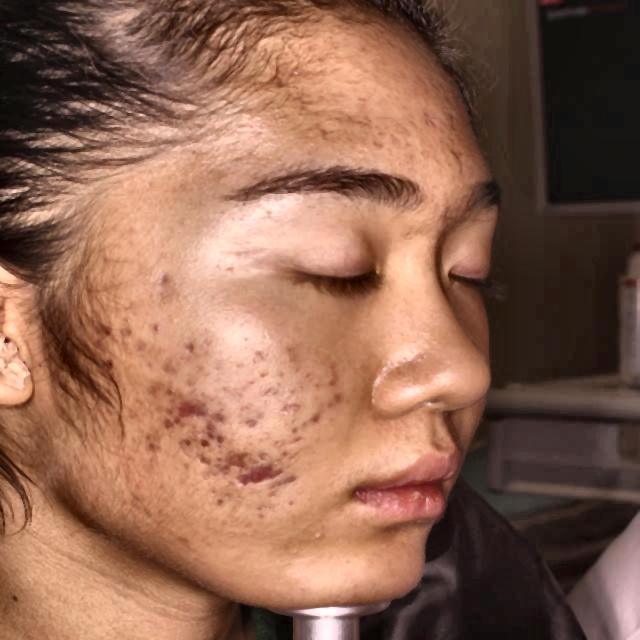pustule: (248, 462, 287, 498), (325, 375, 360, 414), (192, 439, 222, 468), (238, 405, 268, 434), (158, 411, 189, 437), (141, 434, 167, 461), (141, 370, 164, 396), (163, 398, 208, 411), (306, 408, 331, 428), (92, 312, 109, 340), (200, 421, 220, 441), (224, 445, 243, 465), (208, 404, 226, 425)
